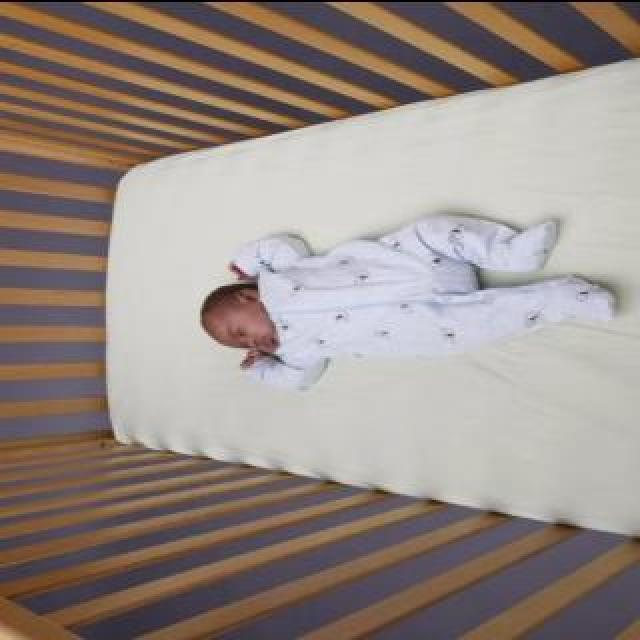baby: (199, 213, 623, 393)
